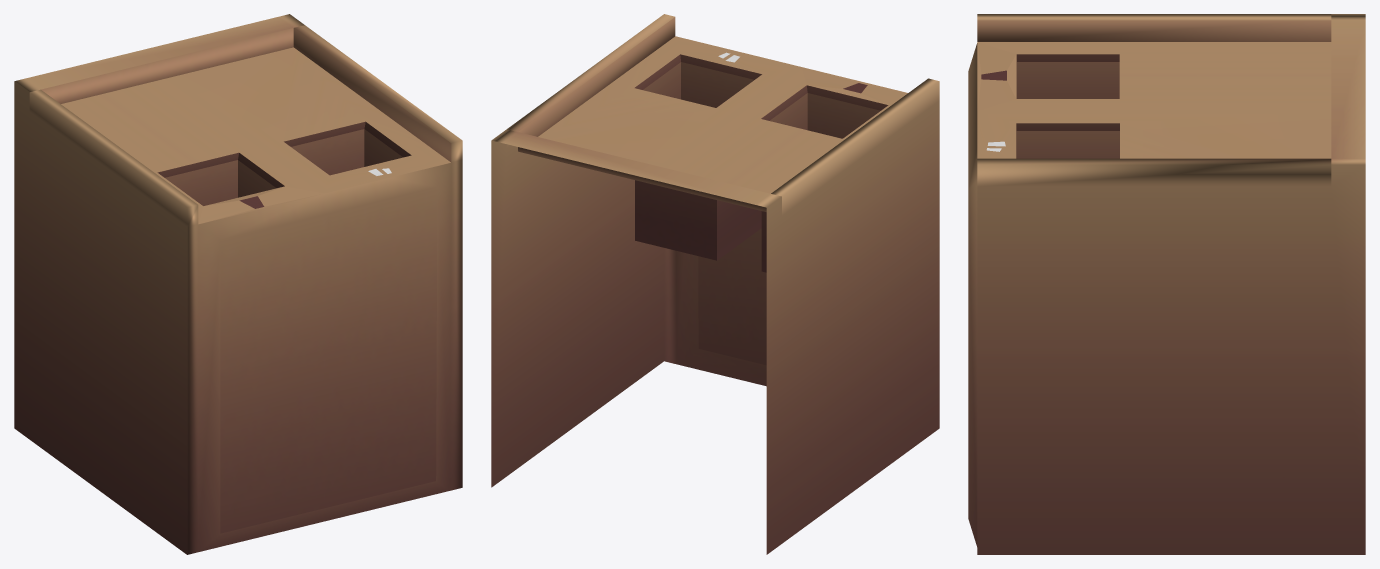
The model's file is M_Prop_Rubbish_001.fbx.
3 views of the same model, side by side, from view 1: azimuth 30°, elevation 25°; view 2: azimuth 150°, elevation 25°; view 3: azimuth 270°, elevation 25° (orthographic). The views are drawn at different scales.
Parts seen in each view (by area): view 1: Rubbish; view 2: Rubbish; view 3: Rubbish.
Part boxes in pixels (<box>): Rubbish: <box>14,14,462,554</box>; Rubbish: <box>491,14,939,554</box>; Rubbish: <box>968,14,1365,554</box>.
Size of the model in its own units: 87.91 by 106 by 97.74.
